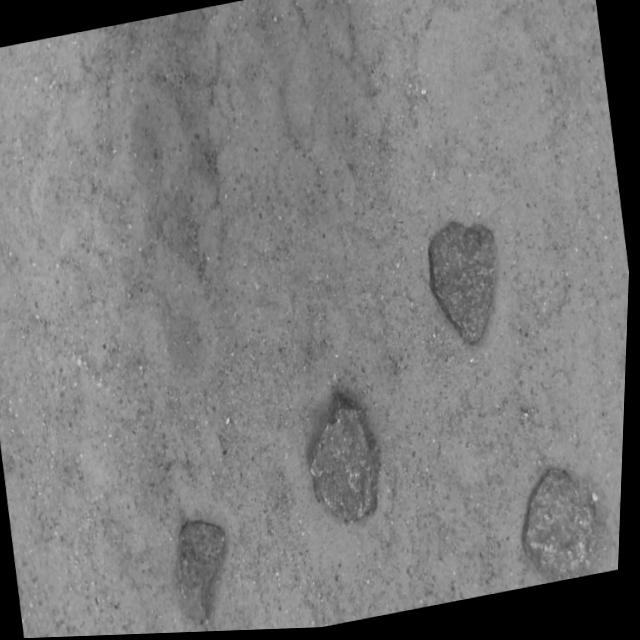rock: (526, 474, 602, 587), (313, 399, 382, 521), (430, 226, 496, 345), (180, 524, 227, 621)
